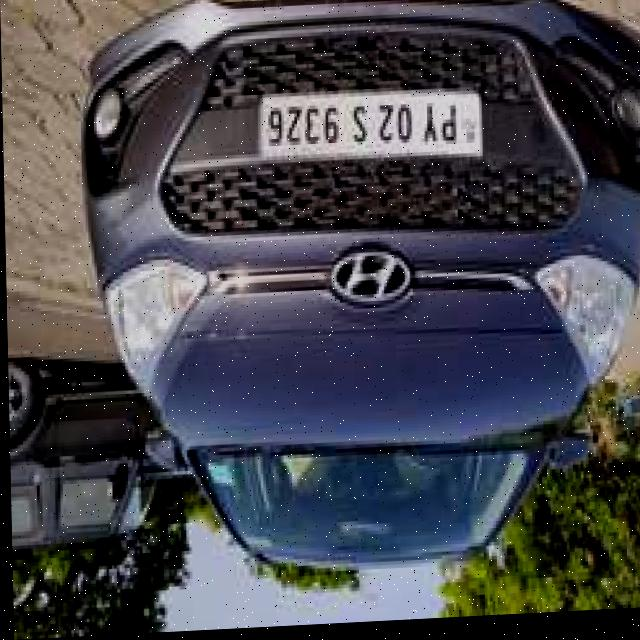plate: (256, 89, 483, 173)
